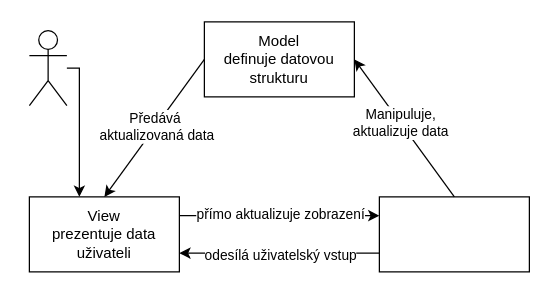
The diagram is 551 pixels wide and 294 high, and some of its shapes have lost their labels. The centre of each missing label's shape, as x and y in pixels:
Controller řídí business logiku, reaguje na uživatelské vstupy: (453,234)
Uživatel: (47,67)
